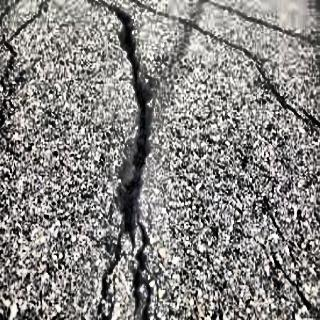crack: (161, 12, 320, 135), (100, 2, 156, 320), (255, 200, 312, 316), (1, 6, 43, 123)
